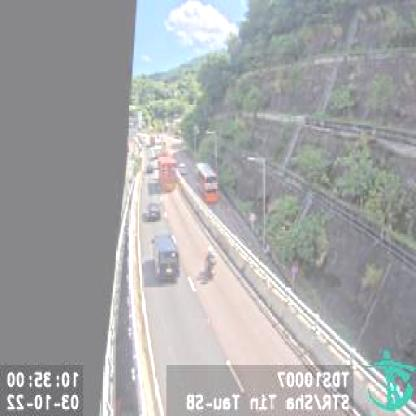Bus: (195, 161, 220, 205), (160, 154, 178, 191)
Car: (154, 232, 180, 279), (148, 201, 161, 220)
